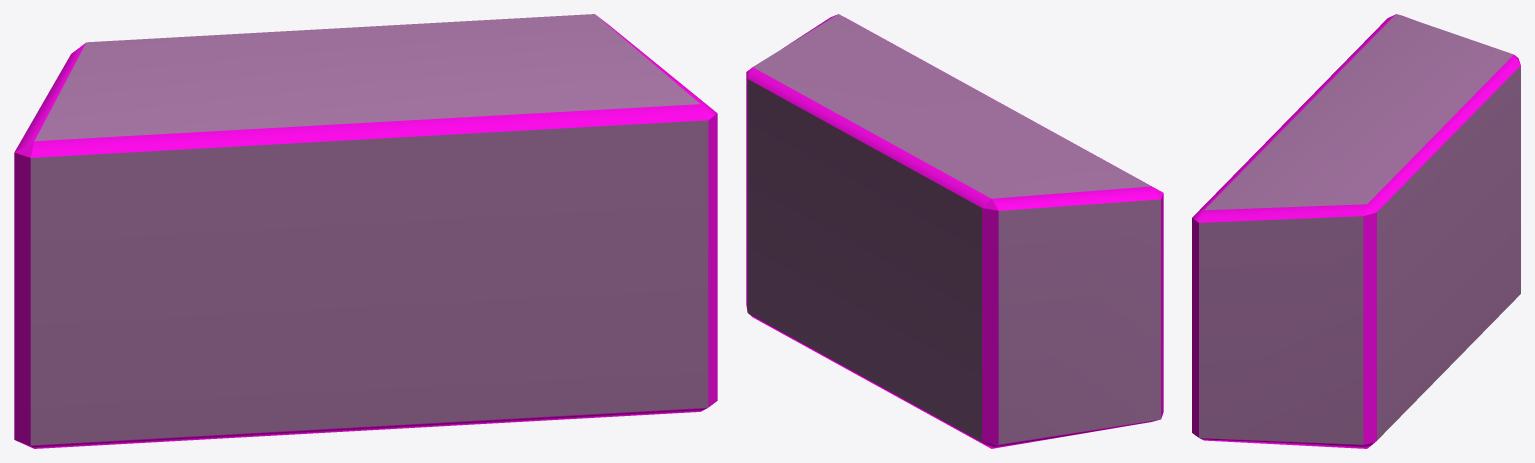
The model's file is PinkL1.fbx.
The picture shows the model from 3 angles, left to right: view 1: azimuth 30°, elevation 25°; view 2: azimuth 150°, elevation 25°; view 3: azimuth 270°, elevation 25°; orthographic projection. The views are drawn at different scales.
Visible parts, largest first — view 1: polySurface45; view 2: polySurface45; view 3: polySurface45.
Part boxes in pixels (x1,y1,x2,y2): polySurface45: (14,14,717,448); polySurface45: (746,14,1163,448); polySurface45: (1192,14,1520,448).
Bounding box in the file's own units: 1.6 × 0.8798 × 1.07.
